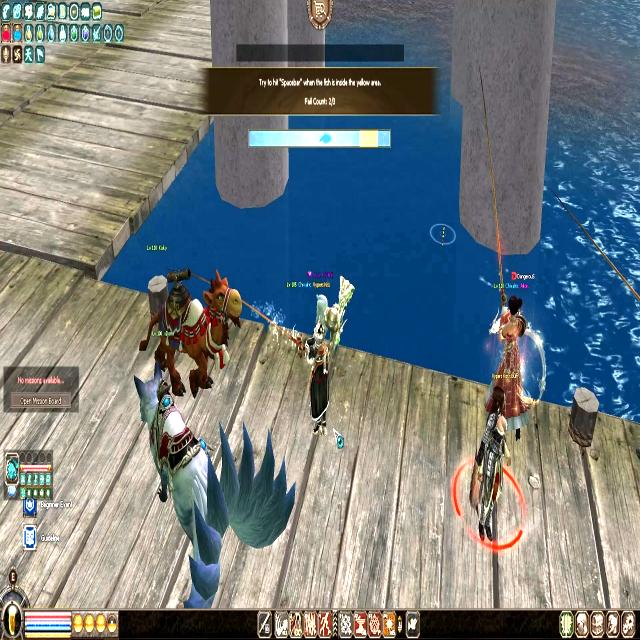fishes: (319, 131, 332, 145)
